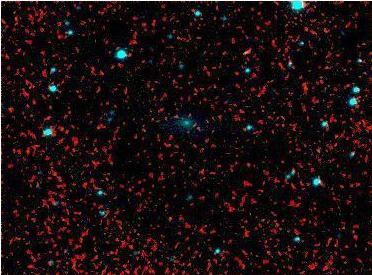star: (224, 36, 254, 66)
